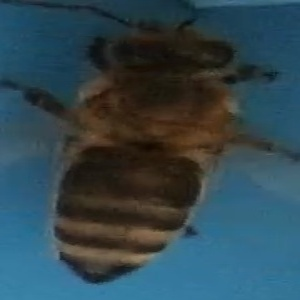bee: (25, 2, 273, 287)
